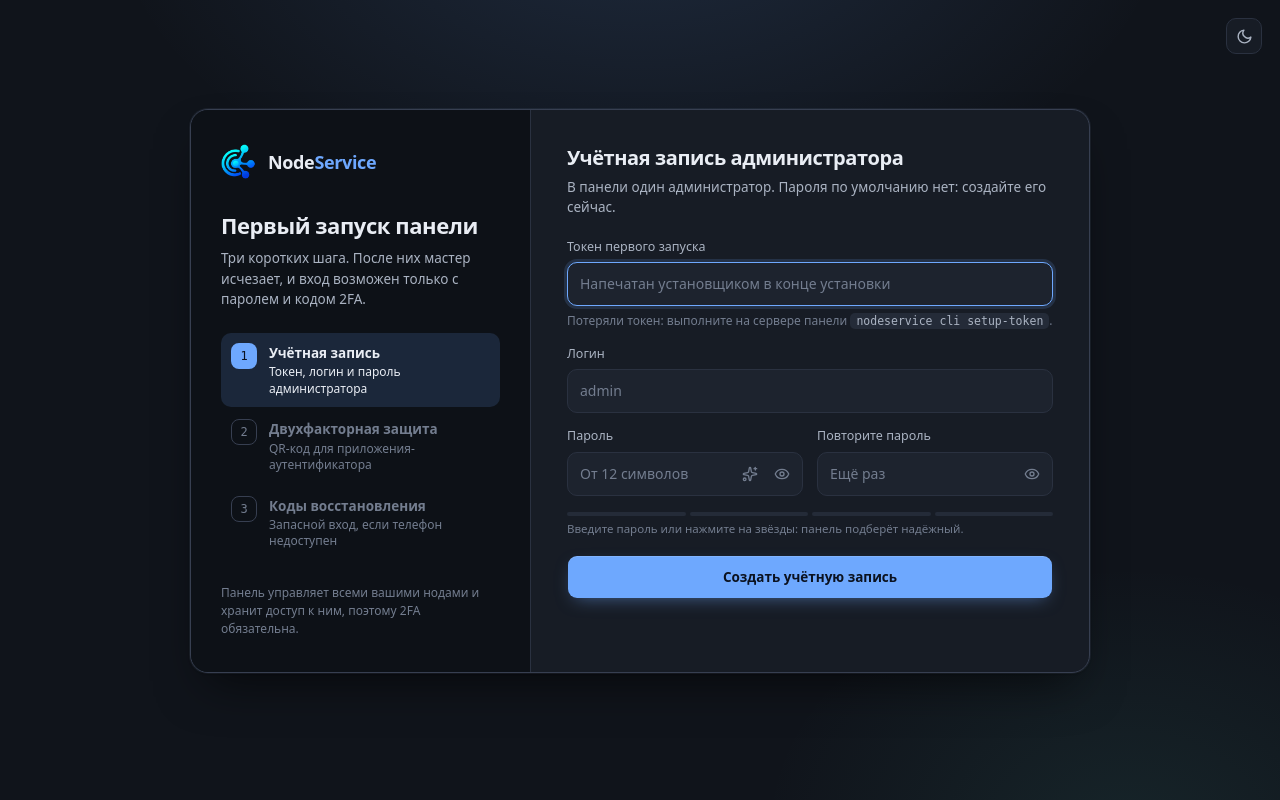
Scenario: SetupPage › генератор подставляет один и тот же пароль в оба поля и показывает его
Expected: the field labelled "Токен первого запуска" is shown, [567, 262, 1053, 306]
Step 1. Click the button named "Сгенерировать надёжный пароль" → [750, 474], box [735, 459, 765, 489]
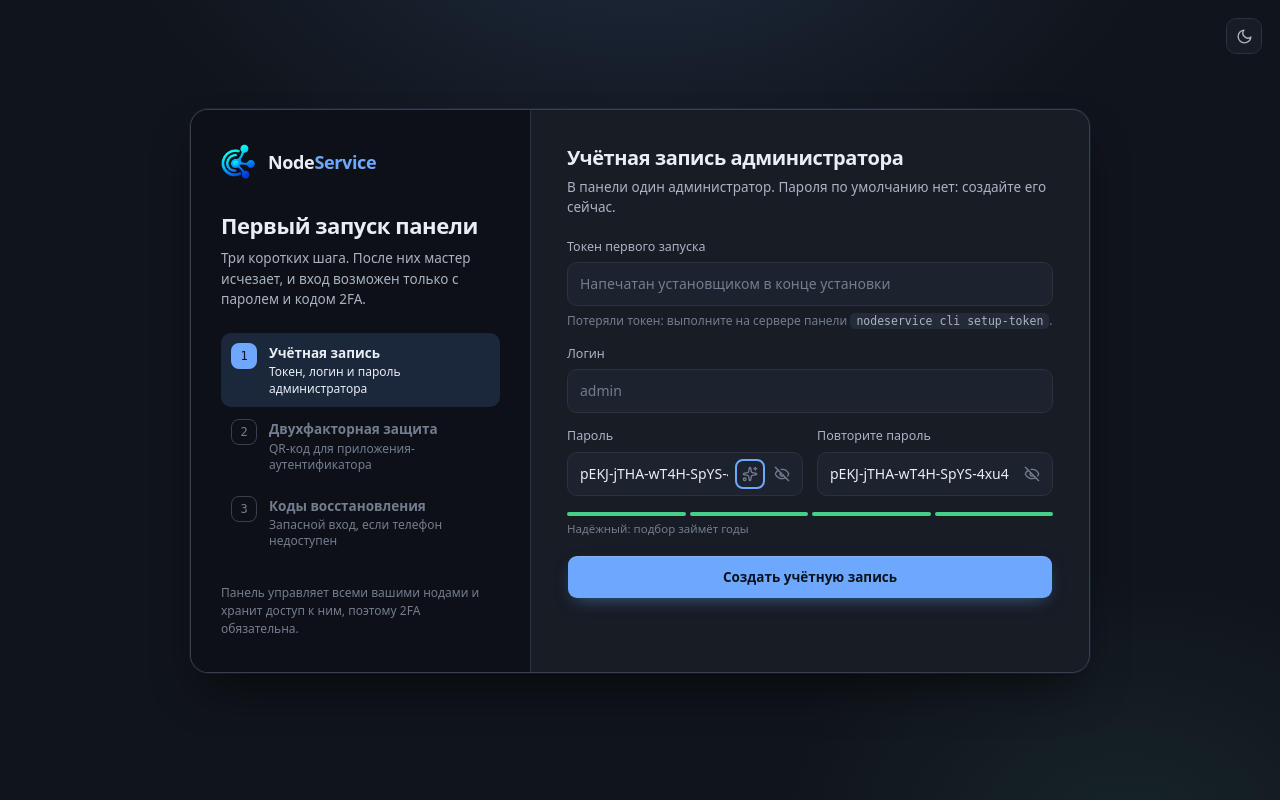
Result: the field labelled "Пароль" shows its text at [567, 452, 803, 496]
Result: the field labelled "Повторите пароль" shows its text at [817, 452, 1053, 496]
глаз общий для обоих полей: скрыли одно — скрылось и второе
Step 2. Click the 1st button named "Скрыть пароль" → [782, 474], box [767, 459, 797, 489]
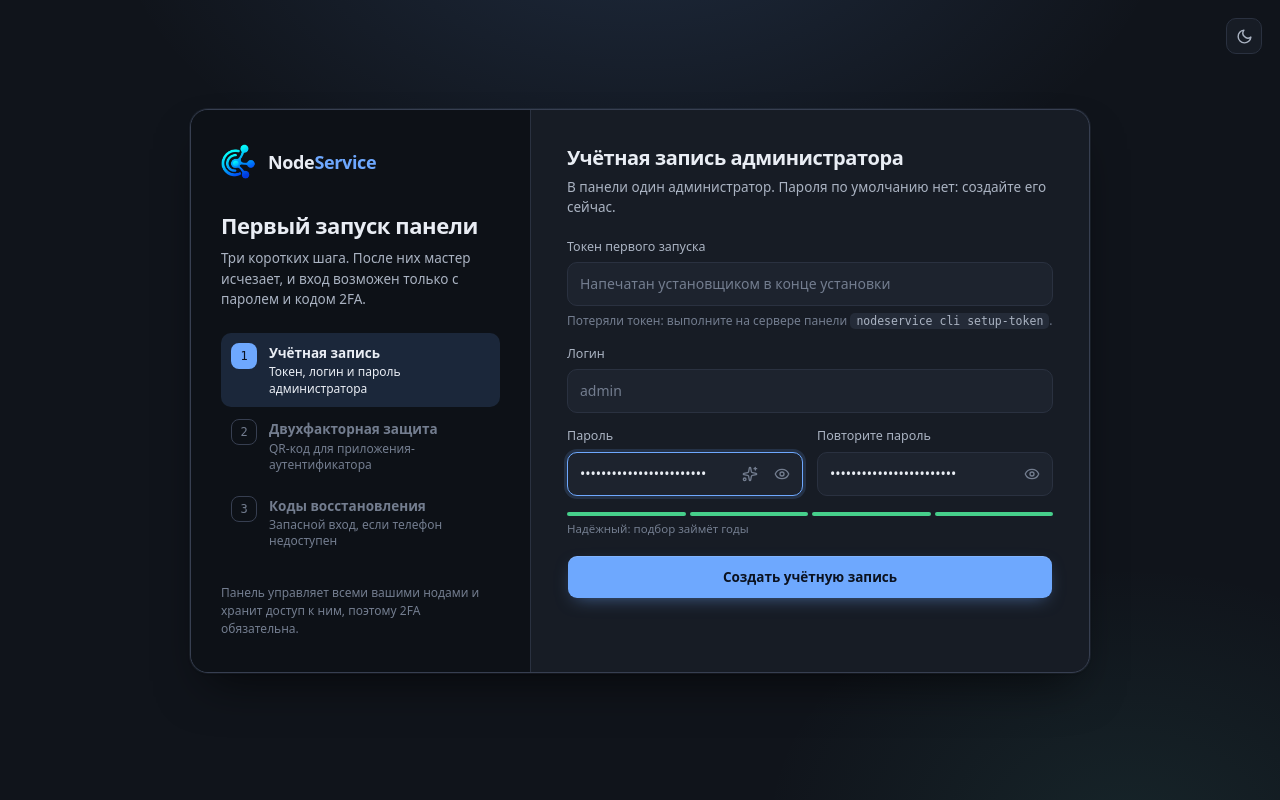
Result: the password field labelled "Пароль" hides its text at [567, 452, 803, 496]
Result: the password field labelled "Повторите пароль" hides its text at [817, 452, 1053, 496]
